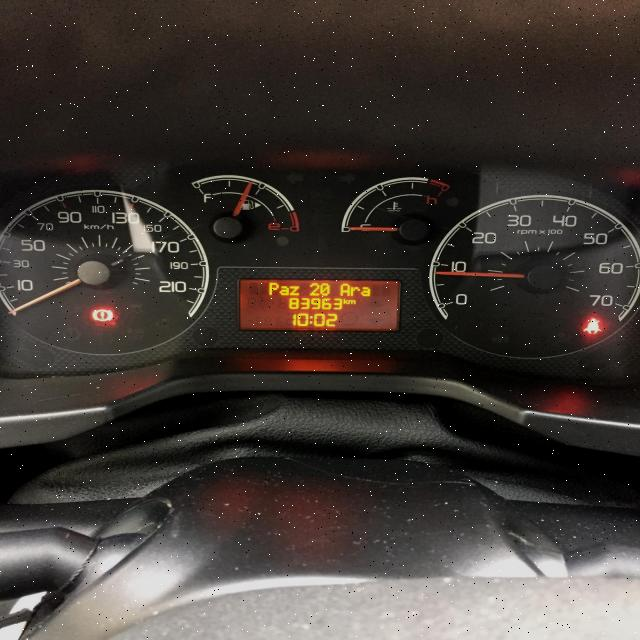odometer: (235, 276, 402, 333)
